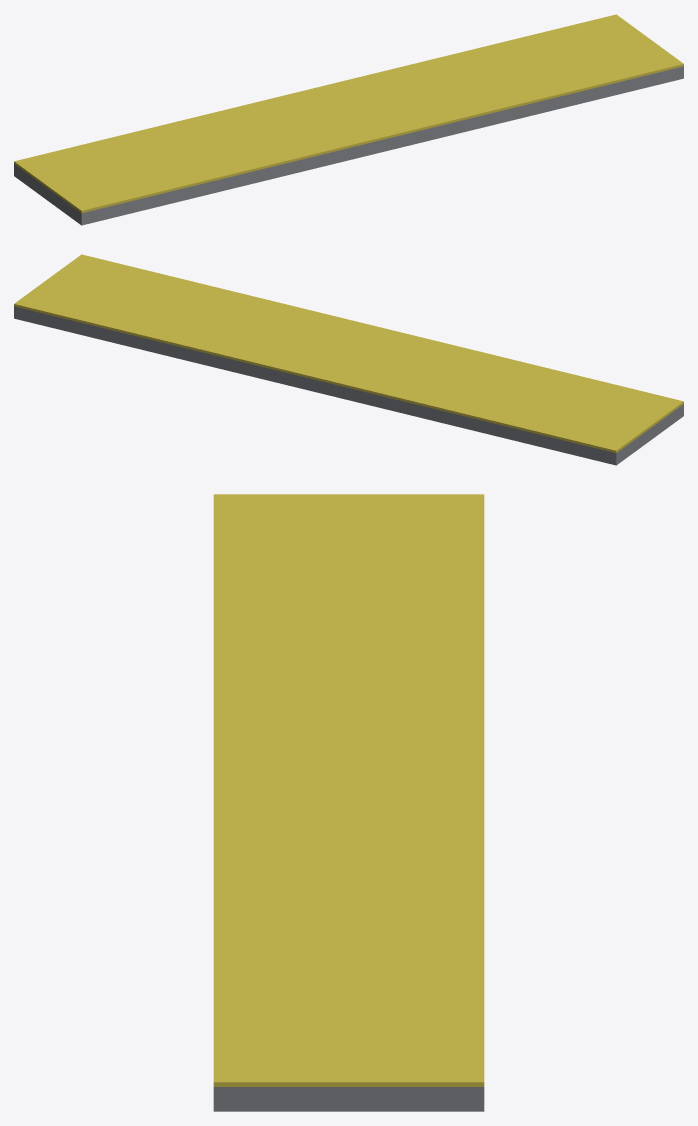
The model's file is hk-gate-weighbridge.glb.
The picture shows the model from 3 angles, top to bottom: view 1: azimuth 30°, elevation 25°; view 2: azimuth 150°, elevation 25°; view 3: azimuth 270°, elevation 25°; orthographic projection. The views are drawn at different scales.
Visible parts, largest first — view 1: hk-gate-weighbridge; view 2: hk-gate-weighbridge; view 3: hk-gate-weighbridge.
Part boxes in pixels (x1,y1,x2,y2): hk-gate-weighbridge: (14,14,683,225); hk-gate-weighbridge: (14,254,683,465); hk-gate-weighbridge: (213,494,484,1111).
Bounding box in the file's own units: 18 × 0.42 × 3.5.
